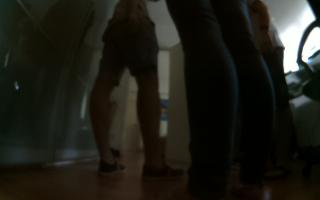person: (163, 2, 278, 200), (84, 1, 184, 184), (243, 1, 302, 200)
